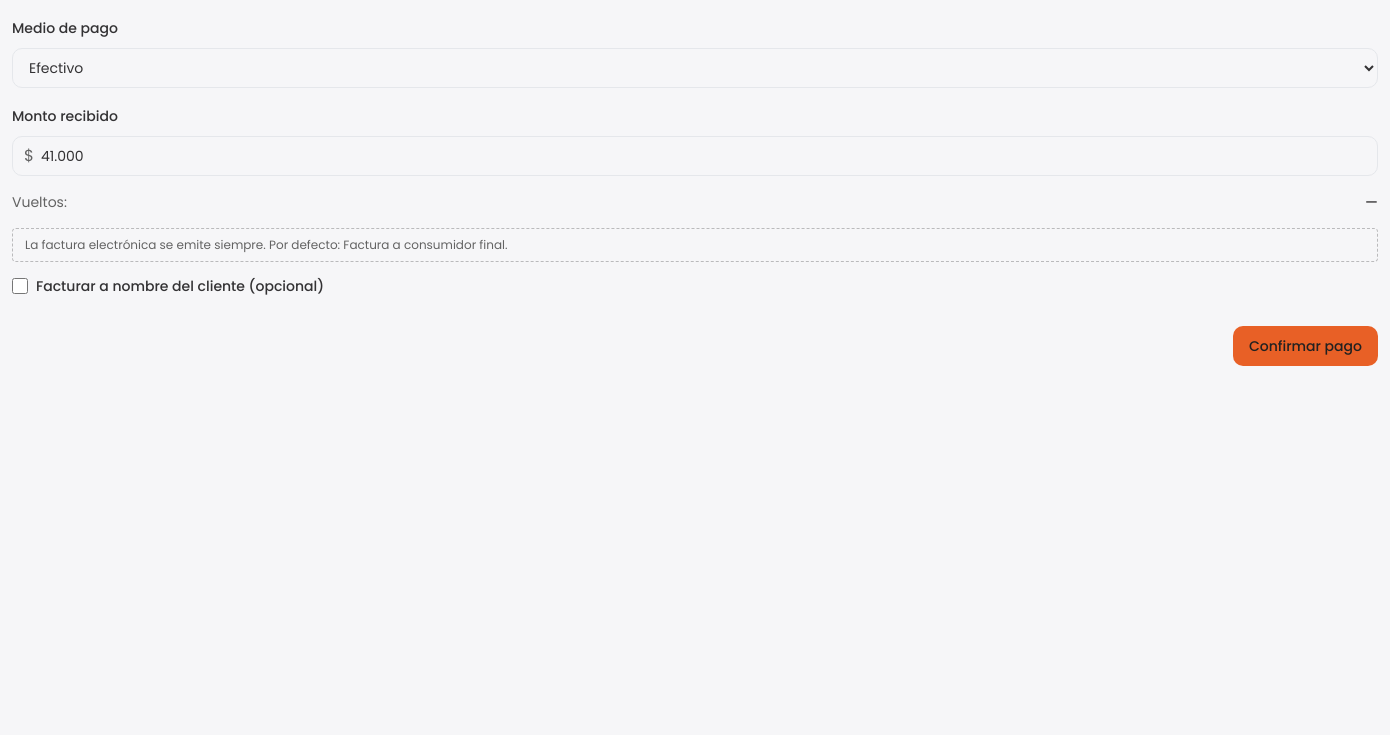
Test: <PagoModal /> — REQ-OPS-167 (FE consumidor final + validarNitModulo11) › M9 (persona natural): cambiar a "persona" muestra selector de tipo de documento + apellido, oculta DV
Click the checkbox with test id "pago-fe-toggle" at (20, 286), box [12, 278, 28, 294]
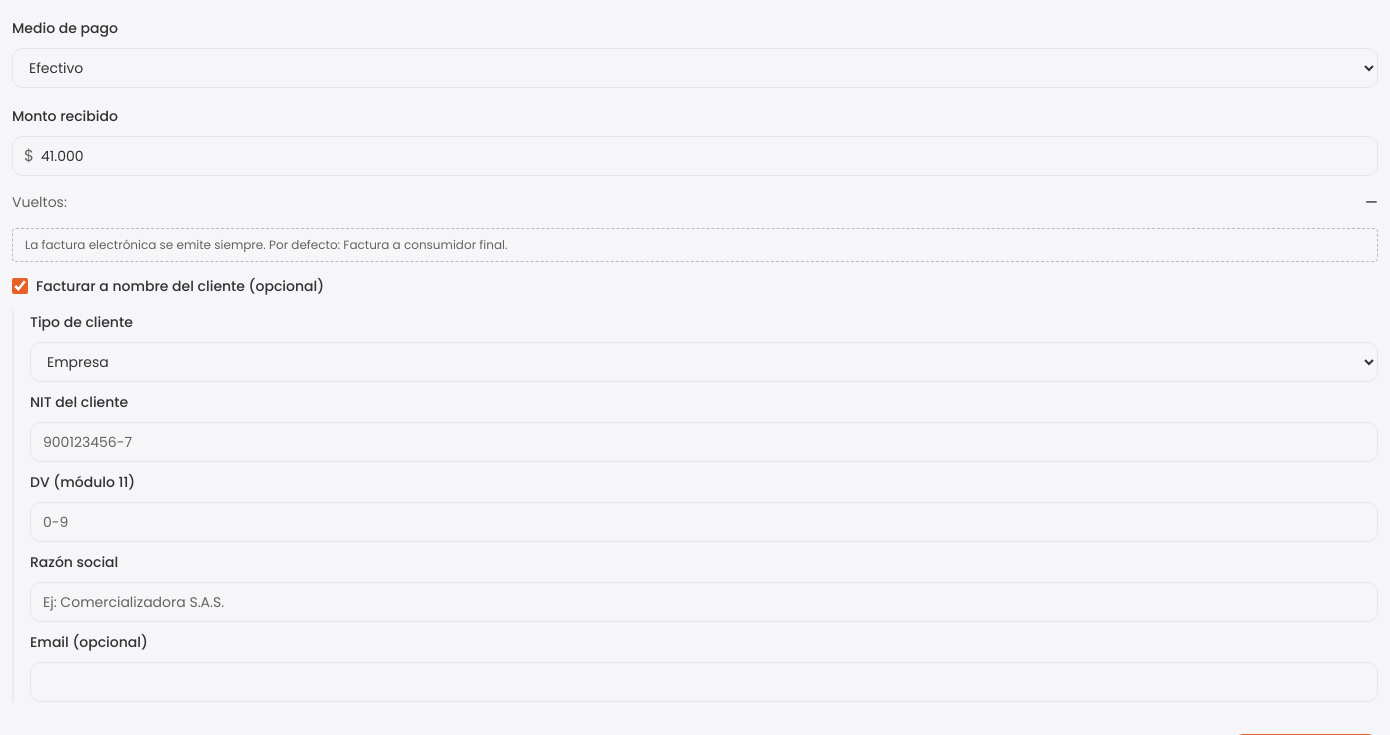
Select "Persona natural" in the dropdown with test id "pago-tipo-persona" at (704, 362), box [30, 342, 1378, 382]
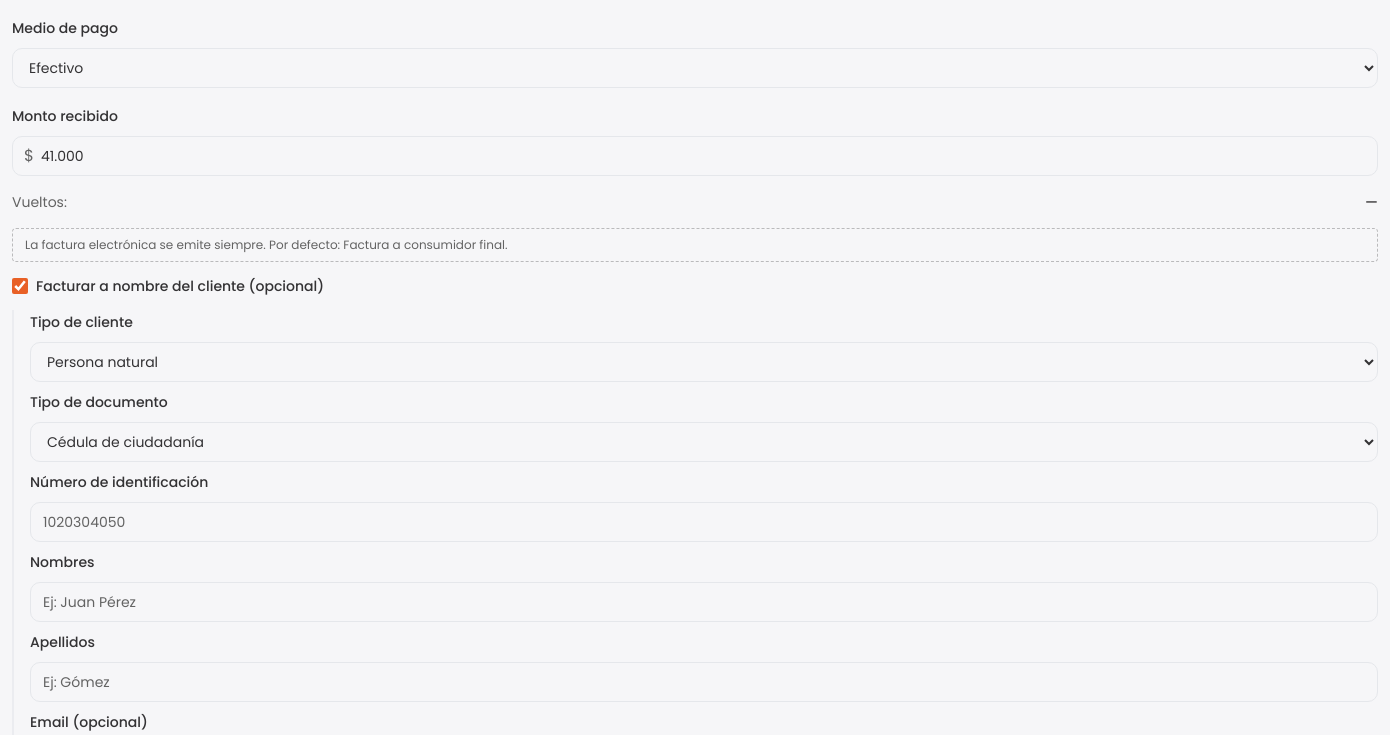
Check: the dropdown with test id "pago-tipo-documento" shows "Cédula de ciudadanía", box [30, 422, 1378, 462]
Check: the field with test id "pago-fe-apellido" is shown, box [30, 662, 1378, 702]
Check: the field with test id "pago-fe-dv" is gone
